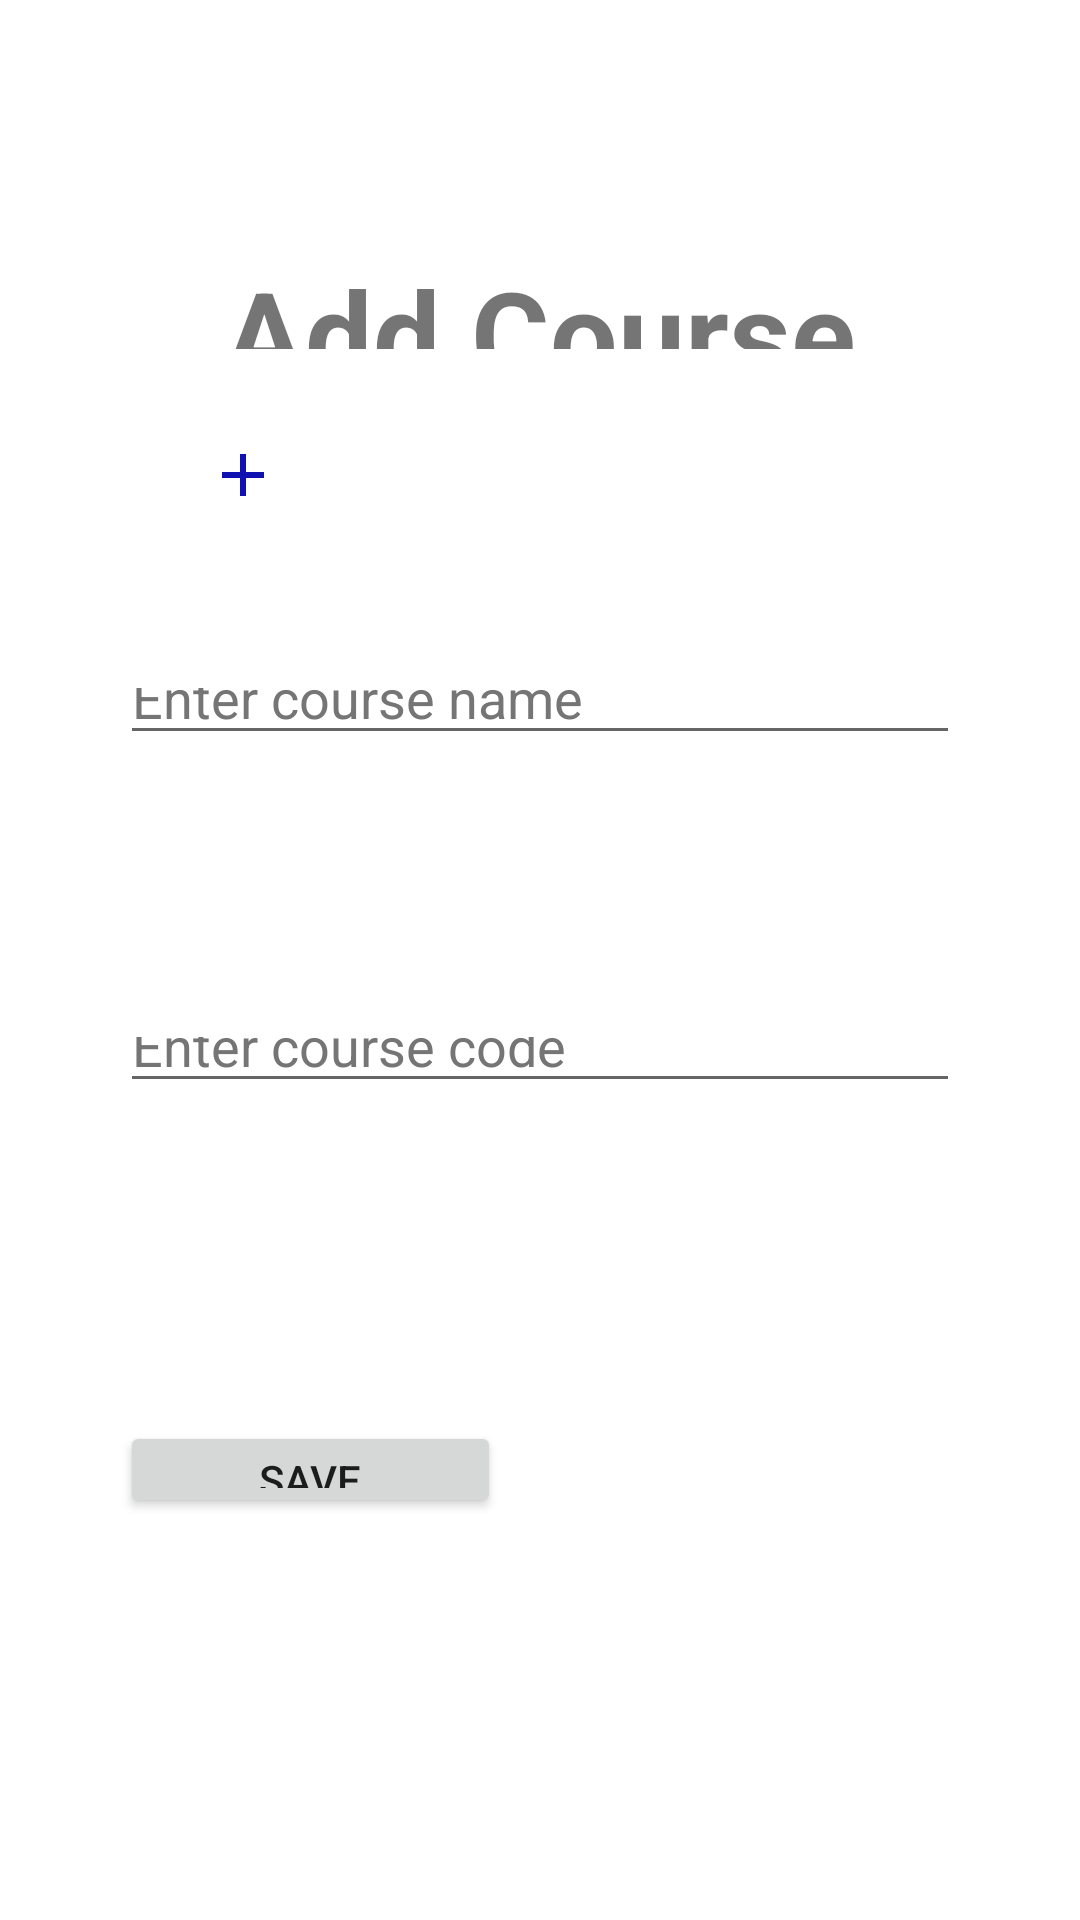

Where icons sit on this 1080x1920 app screen, as (x1, y1, x2, y2):
Add new course: (222, 454, 264, 496)
